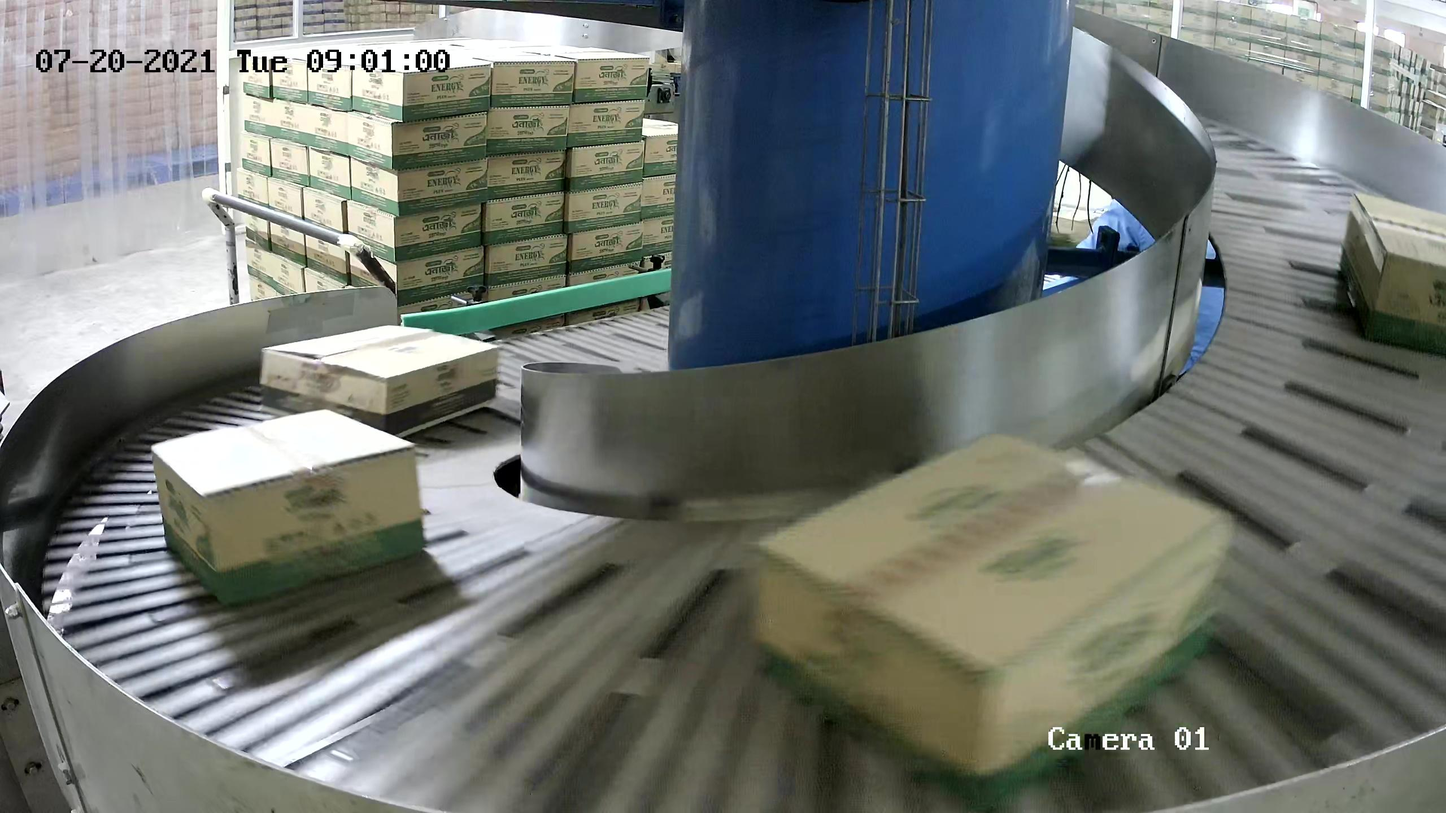Box: (750, 428, 1237, 813), (150, 408, 428, 605), (258, 322, 500, 441), (1335, 191, 1446, 361)
